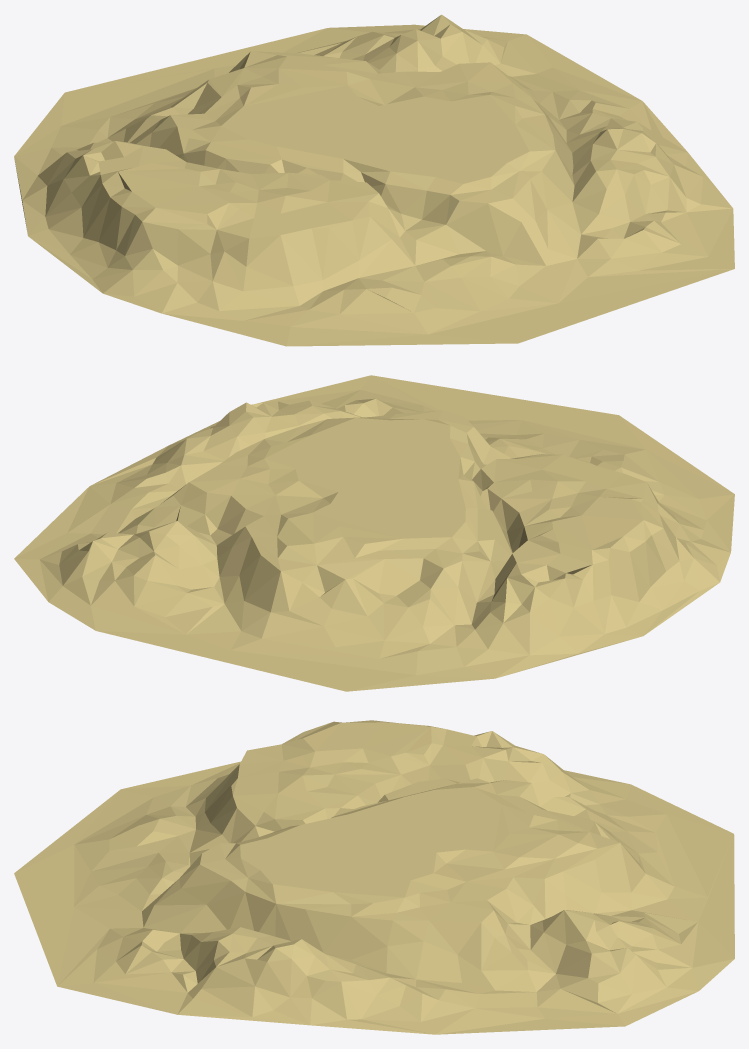
The model's file is TerrainSand_6.fbx.
3 views of the same model, one above another, from view 1: azimuth 30°, elevation 25°; view 2: azimuth 150°, elevation 25°; view 3: azimuth 270°, elevation 25° (orthographic). The views are drawn at different scales.
Parts seen in each view (by area): view 1: TerrainSand_6; view 2: TerrainSand_6; view 3: TerrainSand_6.
Part boxes in pixels (x1,y1,x2,y2): TerrainSand_6: (14,14,734,346); TerrainSand_6: (14,375,734,691); TerrainSand_6: (14,720,734,1034).
Size of the model in its own units: 1504 by 144 by 1605.
